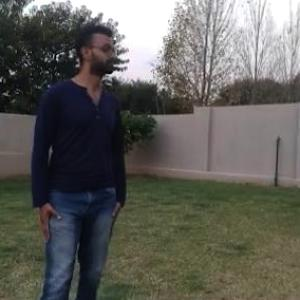follow: (26, 23, 128, 299)
